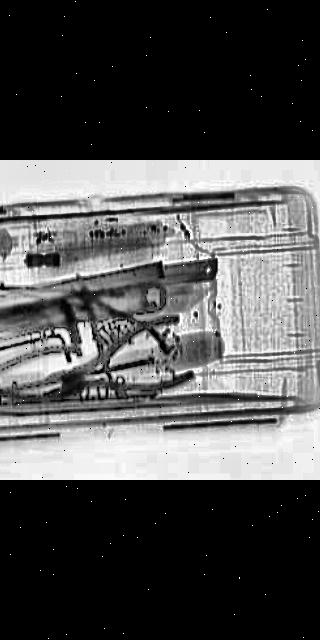Pliers: (11, 311, 229, 415), (0, 344, 87, 420)
Wrench: (0, 251, 188, 375)
